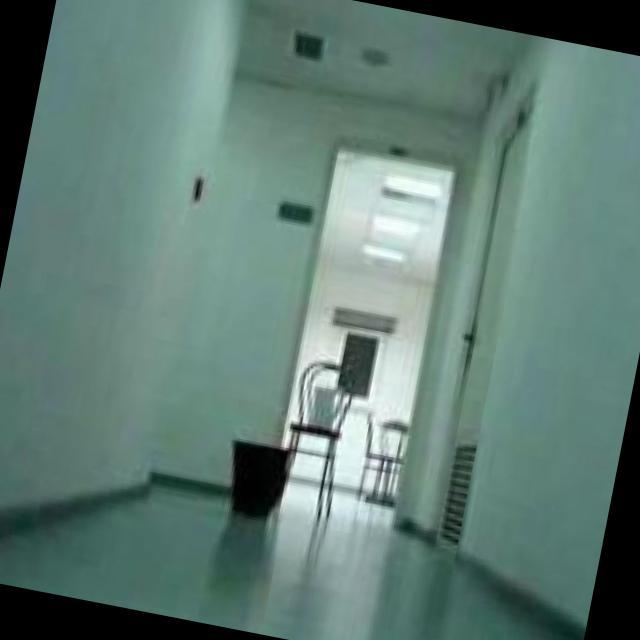Fire: (277, 436, 293, 452)
